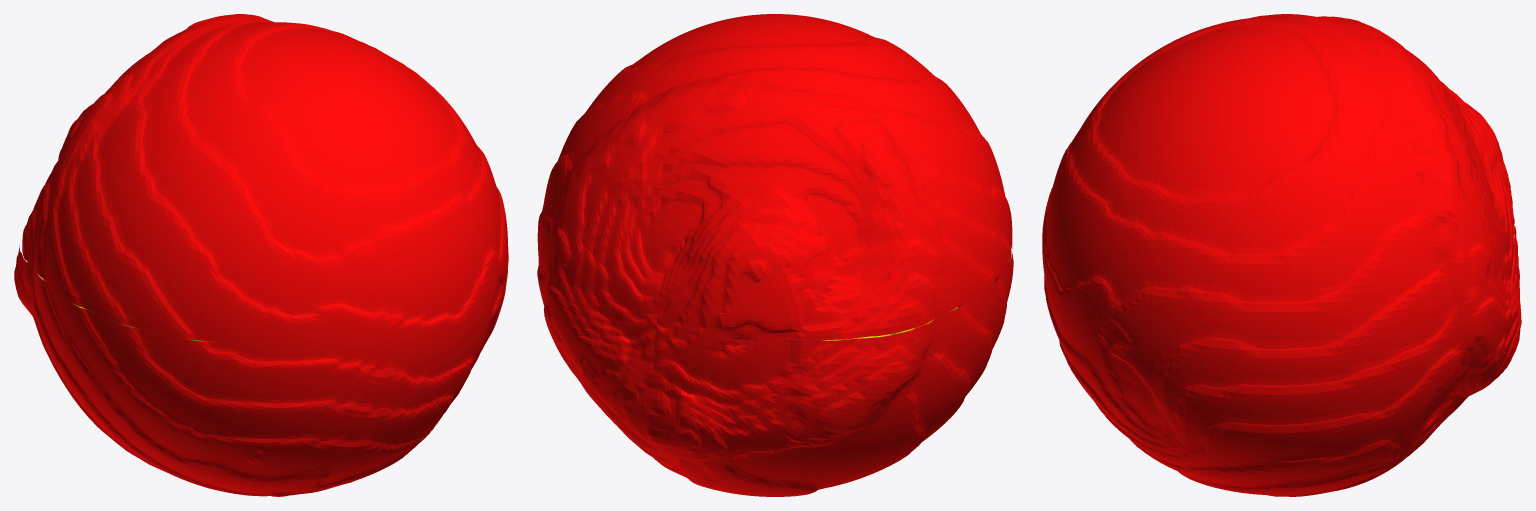
The picture shows the model from 3 angles, left to right: view 1: azimuth 30°, elevation 25°; view 2: azimuth 150°, elevation 25°; view 3: azimuth 270°, elevation 25°; orthographic projection.
Parts seen in each view (by area): view 1: Renderer Node; view 2: Renderer Node; view 3: Renderer Node.
Part boxes in pixels (left/top/right/bottom): Renderer Node: left=14, top=14, right=508, bottom=496; Renderer Node: left=537, top=14, right=1013, bottom=496; Renderer Node: left=1042, top=14, right=1521, bottom=496.
Size of the model in its own units: 3.68e+16 by 3.67e+16 by 3.67e+16.
